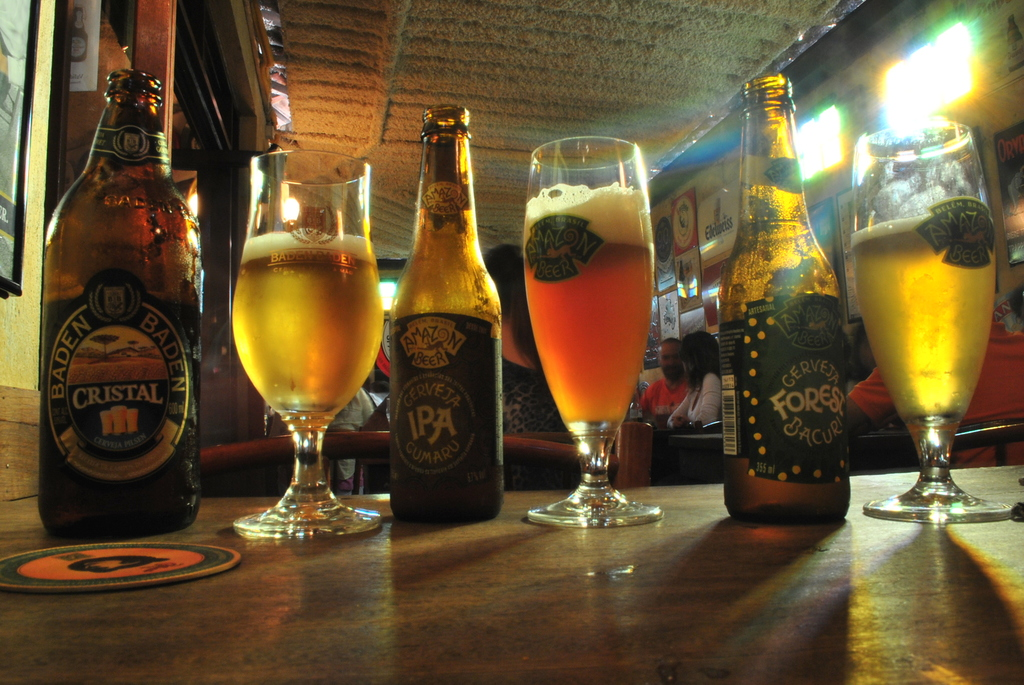Beer: (522, 178, 656, 420), (849, 213, 992, 415), (231, 227, 382, 401)
